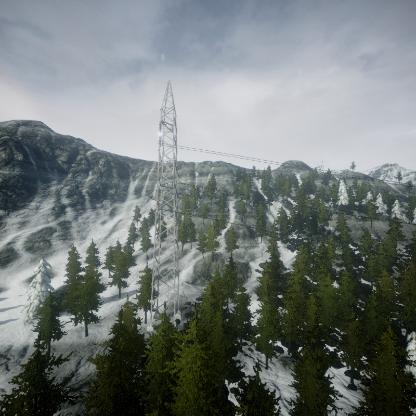tower: (148, 80, 184, 331)
